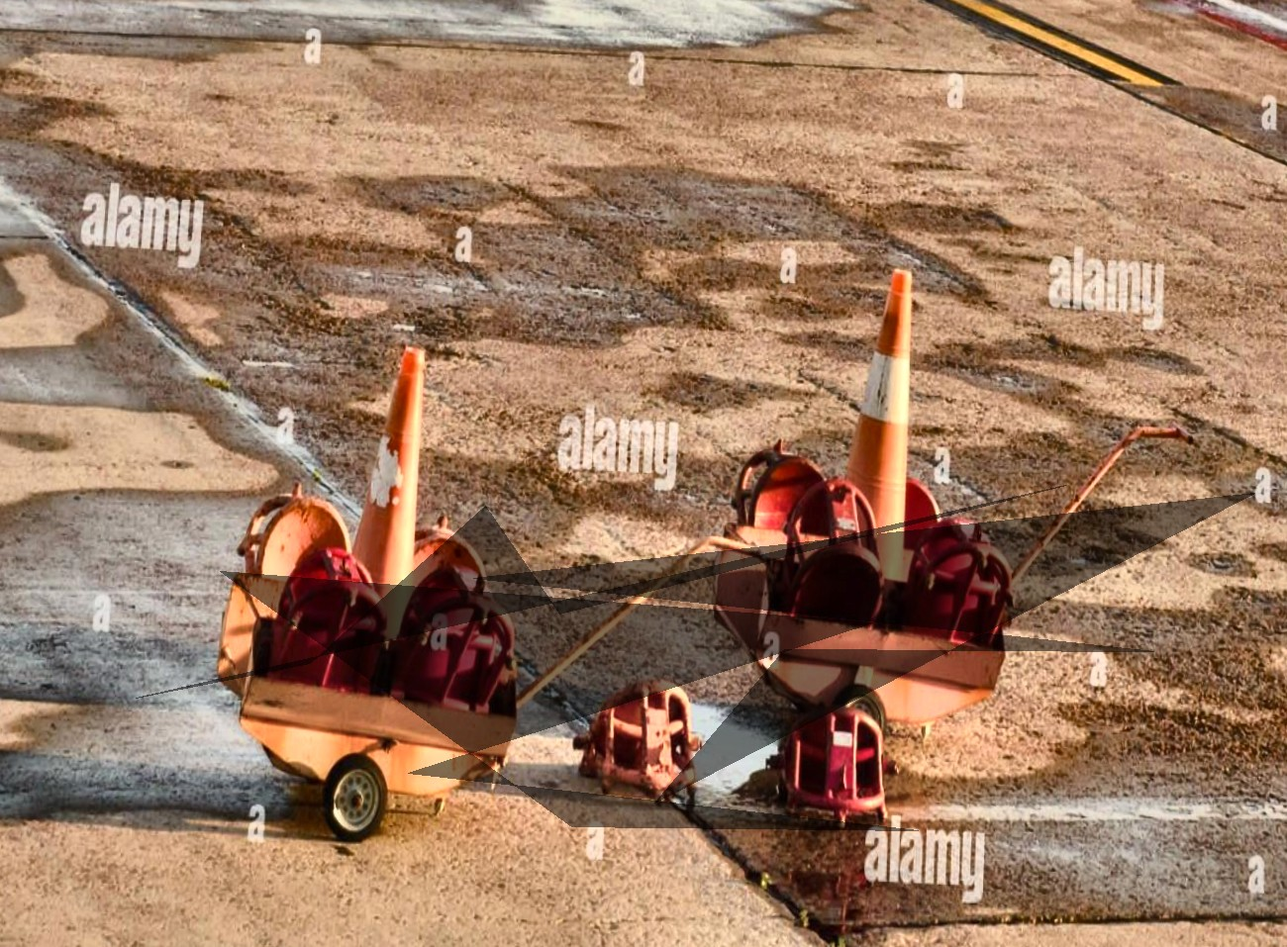chock: (391, 554, 523, 715), (569, 670, 715, 812), (271, 537, 395, 696), (774, 475, 892, 629), (771, 698, 892, 821), (906, 518, 1016, 653), (238, 478, 356, 587), (731, 433, 838, 541), (408, 517, 499, 624), (903, 468, 950, 548)
wheel: (317, 752, 391, 847), (825, 680, 892, 760)
